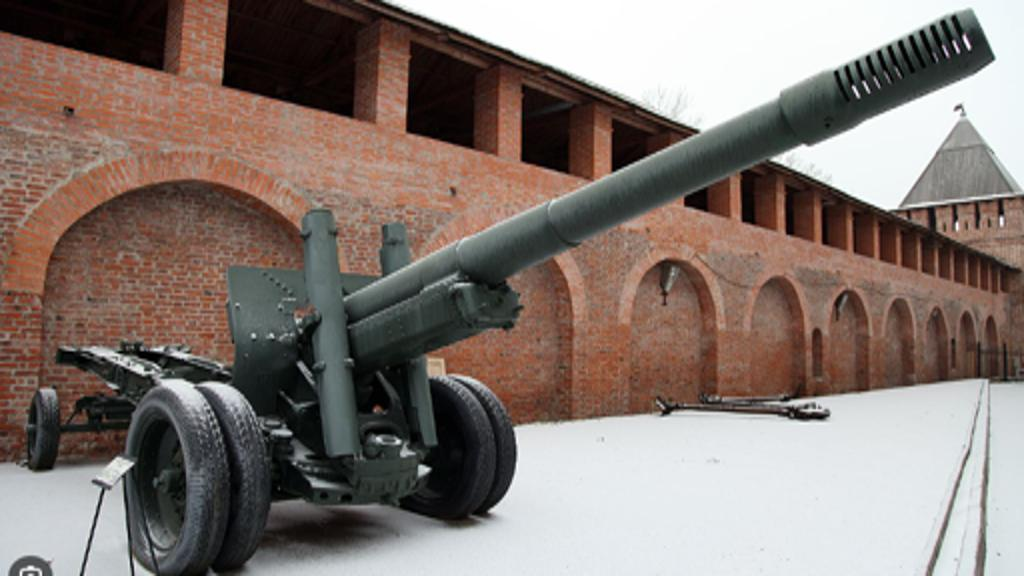ART: (24, 8, 994, 574)
